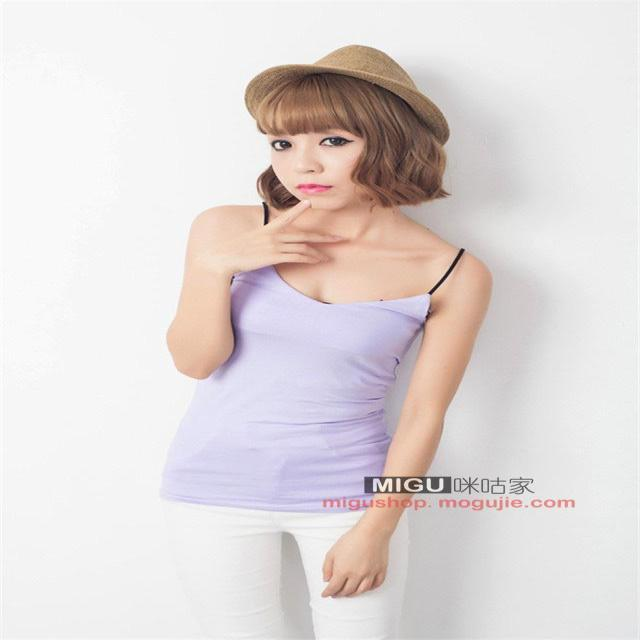sling: (158, 202, 465, 513)
trousers: (161, 439, 410, 640)
